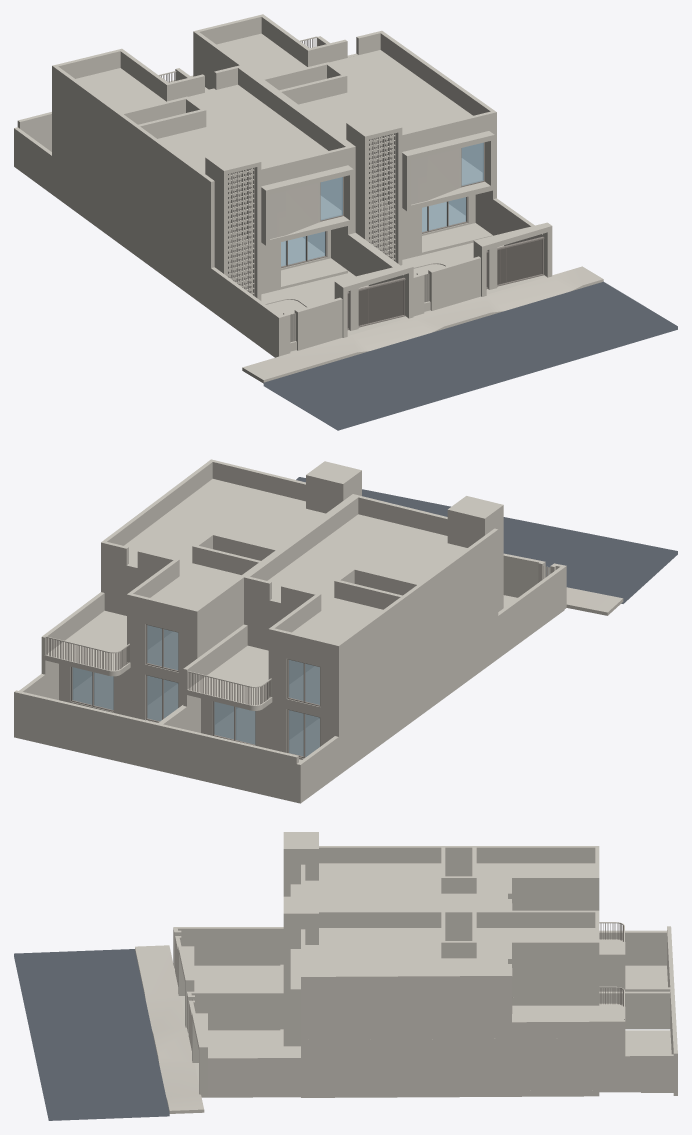
File: al-hanana-villa.glb
The picture shows the model from 3 angles, top to bottom: view 1: azimuth 30°, elevation 25°; view 2: azimuth 150°, elevation 25°; view 3: azimuth 270°, elevation 25°; orthographic projection. The views are drawn at different scales.
Visible parts, largest first — view 1: stone, ground, metal, glass; view 2: stone, ground, glass, metal; view 3: stone, ground, metal.
Part boxes in pixels (x1,y1,x2,y2): stone: (14, 14, 603, 383); ground: (263, 281, 677, 430); metal: (161, 38, 544, 329); glass: (281, 142, 483, 266); stone: (14, 459, 623, 803); ground: (296, 477, 677, 603); glass: (72, 625, 319, 756); metal: (46, 624, 320, 758); stone: (135, 832, 677, 1113); ground: (14, 949, 169, 1120); metal: (600, 923, 623, 1006).
Bounding box in the file's own units: 74.14 × 28.09 × 122.
